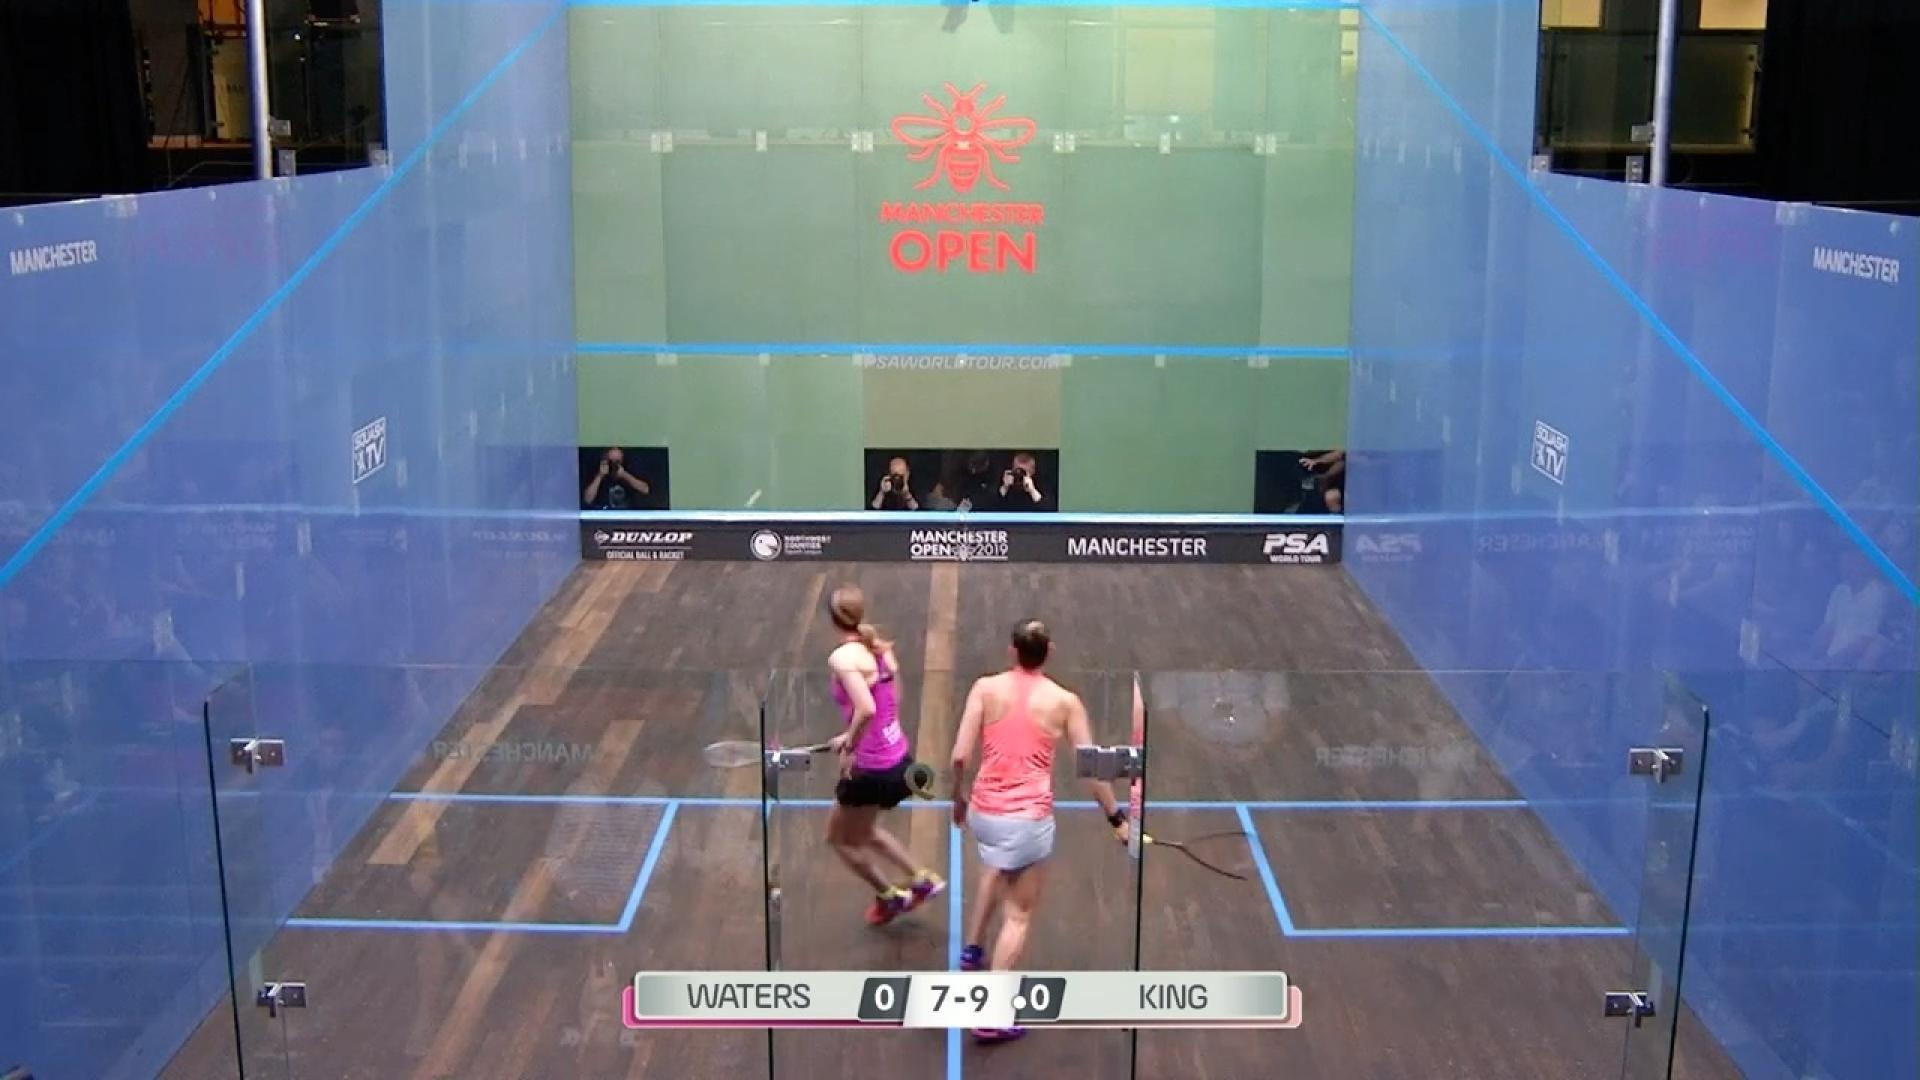Squash-Ball: (732, 485, 773, 520)
